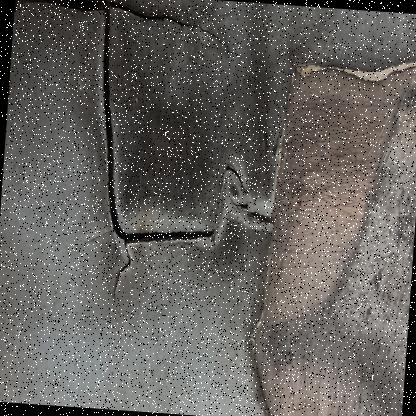Crack: (0, 0, 264, 332), (224, 10, 415, 415)
